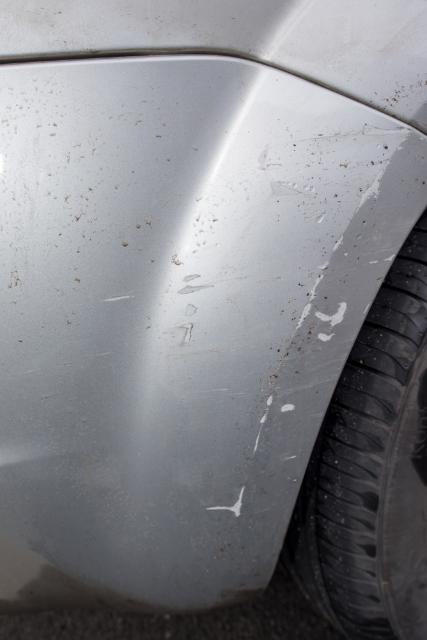scratch: (109, 125, 425, 516)
